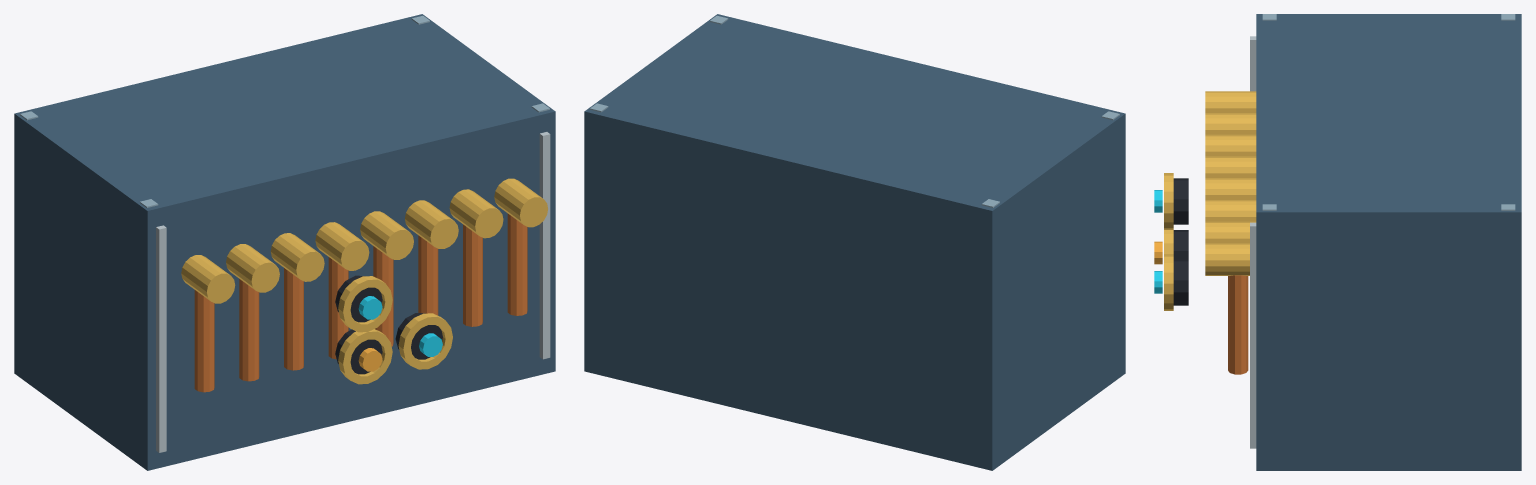
The model's file is 16_L82_FilteredBulkheadFeedthrough.fbx.
3 views of the same model, side by side, from view 1: azimuth 30°, elevation 25°; view 2: azimuth 150°, elevation 25°; view 3: azimuth 270°, elevation 25° (orthographic).
Parts seen in each view (by area): view 1: FilteredBulkheadFeedthrough; view 2: FilteredBulkheadFeedthrough; view 3: FilteredBulkheadFeedthrough.
Boxes of the visible parts, left/top/right/bottom form: FilteredBulkheadFeedthrough: left=14, top=14, right=555, bottom=470; FilteredBulkheadFeedthrough: left=584, top=14, right=1125, bottom=470; FilteredBulkheadFeedthrough: left=1154, top=14, right=1521, bottom=470.
Size of the model in its own units: 115 by 70.35 by 90.
